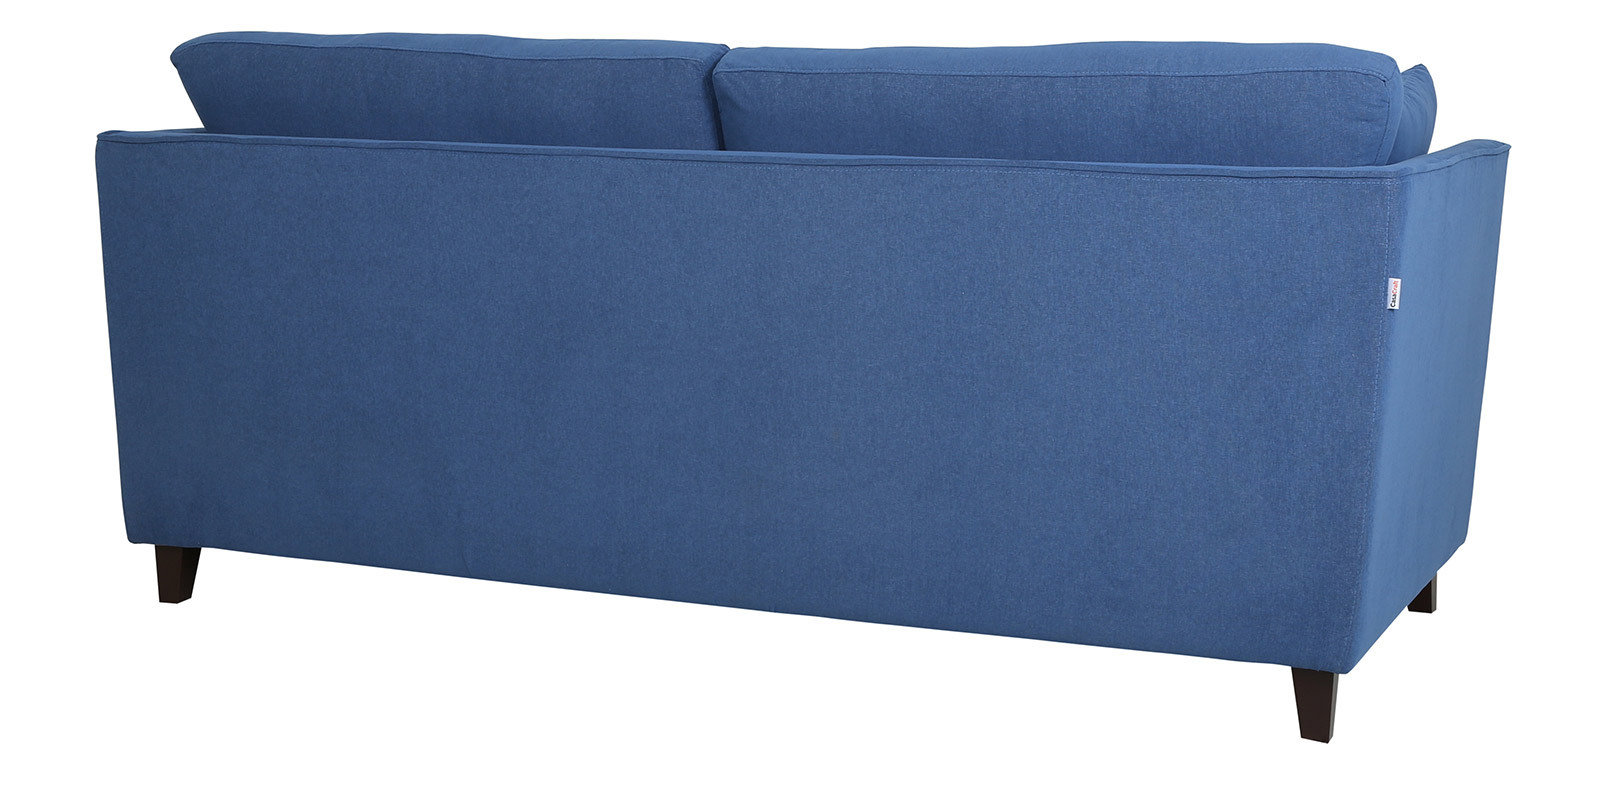Miranda Three Seater Sofa in Denim Blue Colour by CasaCraft: (92, 26, 1510, 741)
